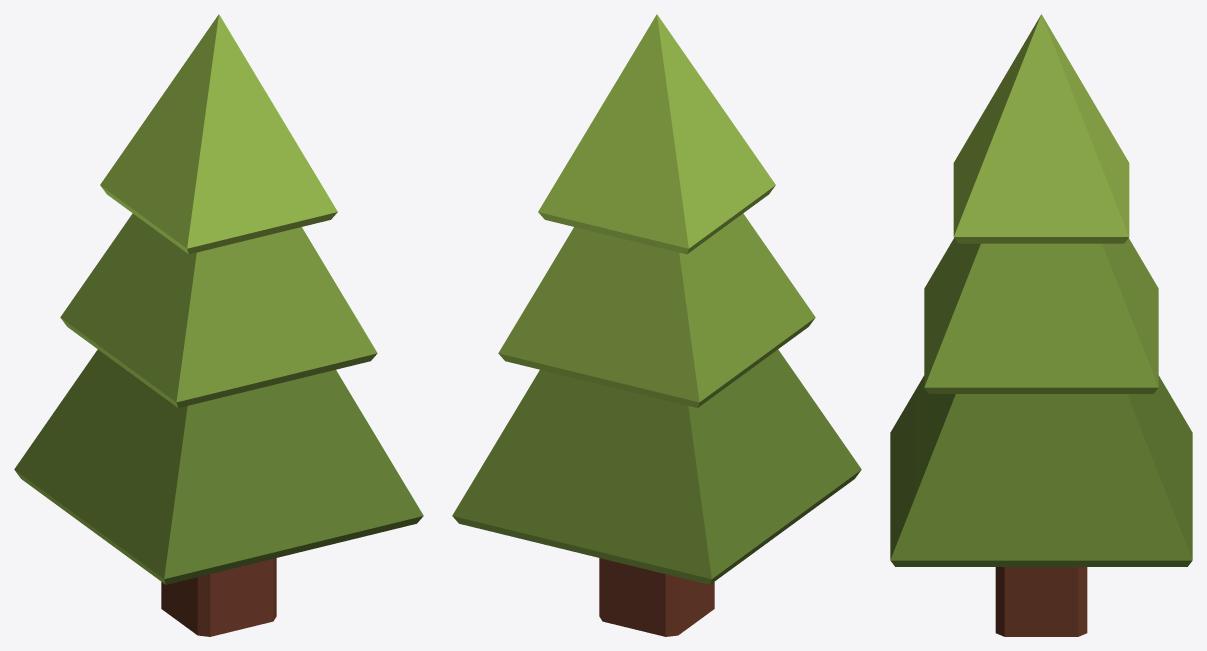
Rendered from SM_Pine_01.fbx.
3 renders of one model, left to right at view 1: azimuth 30°, elevation 25°; view 2: azimuth 150°, elevation 25°; view 3: azimuth 270°, elevation 25°, orthographic.
Visible parts, largest first — view 1: SM_Pine_01; view 2: SM_Pine_01; view 3: SM_Pine_01.
Boxes of the visible parts, x1,y1,x2,y2 form: SM_Pine_01: (14, 14, 423, 636); SM_Pine_01: (452, 14, 861, 636); SM_Pine_01: (890, 14, 1192, 636).
Size of the model in its own units: 17.73 by 39.04 by 17.73.
